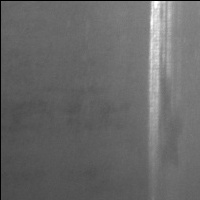scratches: (148, 1, 173, 157)
